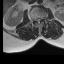CCS_normal: (37, 16, 39, 26)
LFS_stenosis: (41, 15, 43, 22)
LLS_stenosis: (39, 15, 41, 22)
RFS_severe_stenosis: (33, 16, 35, 23)
RLS_stenosis: (35, 16, 37, 23)
